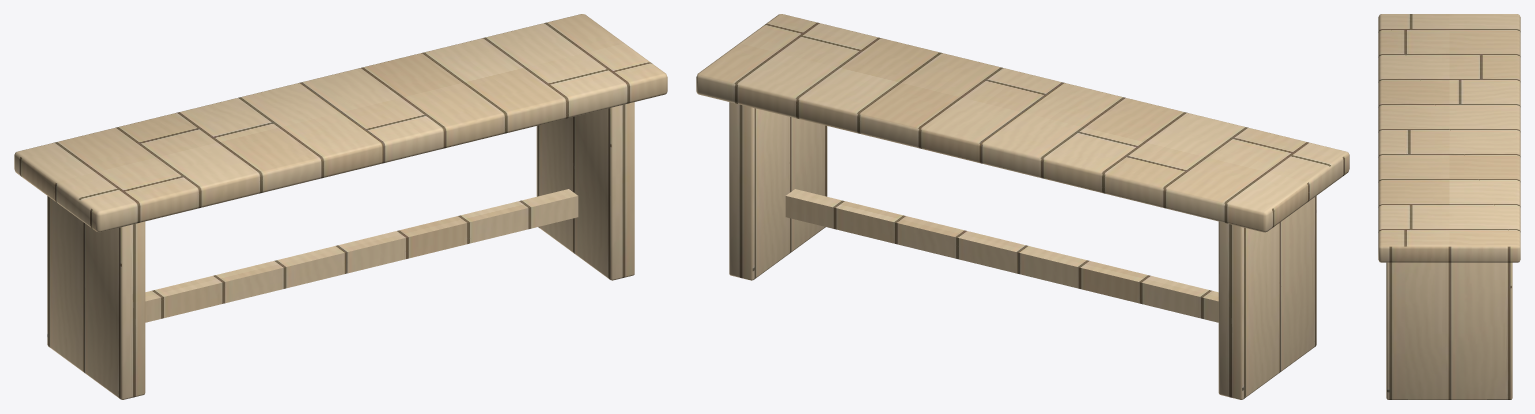
3 views of the same model, side by side, from view 1: azimuth 30°, elevation 25°; view 2: azimuth 150°, elevation 25°; view 3: azimuth 270°, elevation 25° (orthographic). The views are drawn at different scales.
Parts seen in each view (by area): view 1: Decor_dining_bench; view 2: Decor_dining_bench; view 3: Decor_dining_bench.
Boxes of the visible parts, x1=… form: Decor_dining_bench: x1=14, y1=14, x2=667, y2=399; Decor_dining_bench: x1=696, y1=14, x2=1349, y2=399; Decor_dining_bench: x1=1378, y1=14, x2=1520, y2=399.
Bounding box in the file's own units: 1.4 × 0.465 × 0.36.
1 material, 1 textured.
